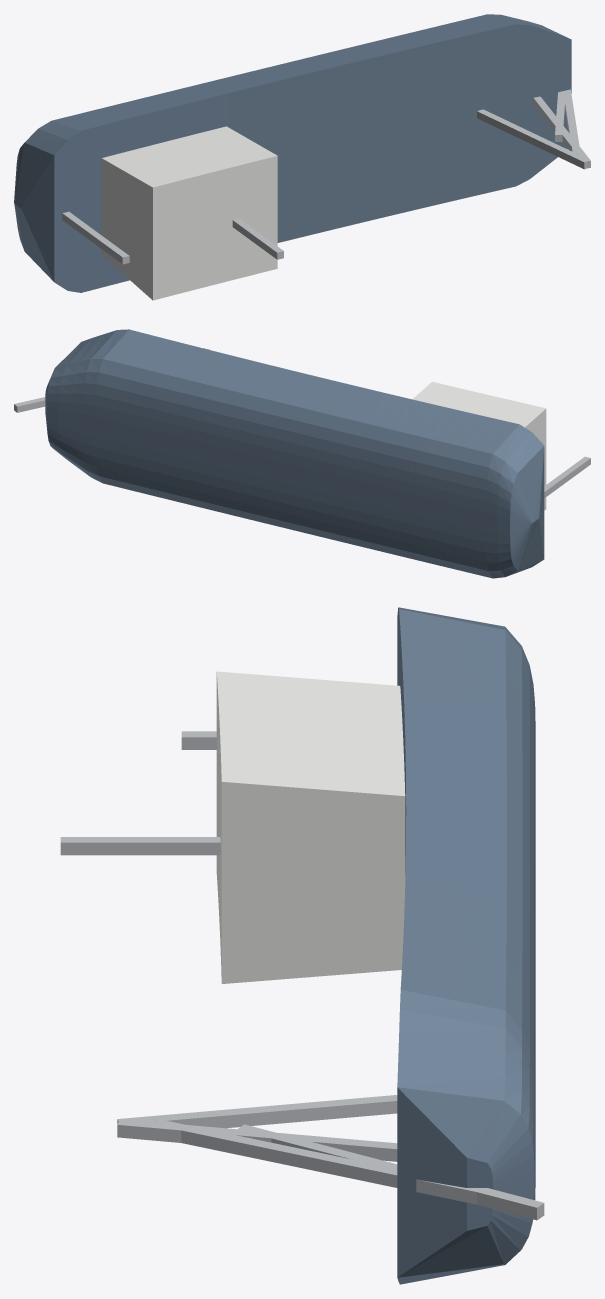
File: loft-dredger-highside.glb
The picture shows the model from 3 angles, top to bottom: view 1: azimuth 30°, elevation 25°; view 2: azimuth 150°, elevation 25°; view 3: azimuth 270°, elevation 25°; orthographic projection. The views are drawn at different scales.
Parts seen in each view (by area): view 1: loft-dredger-highside; view 2: loft-dredger-highside; view 3: loft-dredger-highside.
Part boxes in pixels (x1,y1,x2,y2): loft-dredger-highside: (14,14,590,300); loft-dredger-highside: (14,329,590,578); loft-dredger-highside: (60,607,544,1284).
Bounding box in the file's own units: 2.02 × 0.552 × 0.8338.
